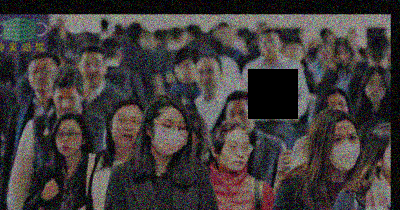with_mask: (151, 116, 187, 157), (328, 130, 360, 169)
without_mask: (217, 138, 250, 171), (110, 113, 140, 147), (54, 126, 81, 155), (27, 64, 53, 92), (226, 105, 252, 133), (78, 58, 102, 86), (196, 65, 218, 93), (53, 93, 78, 115), (364, 77, 386, 102), (257, 36, 279, 58), (173, 63, 195, 83), (334, 49, 351, 66)
